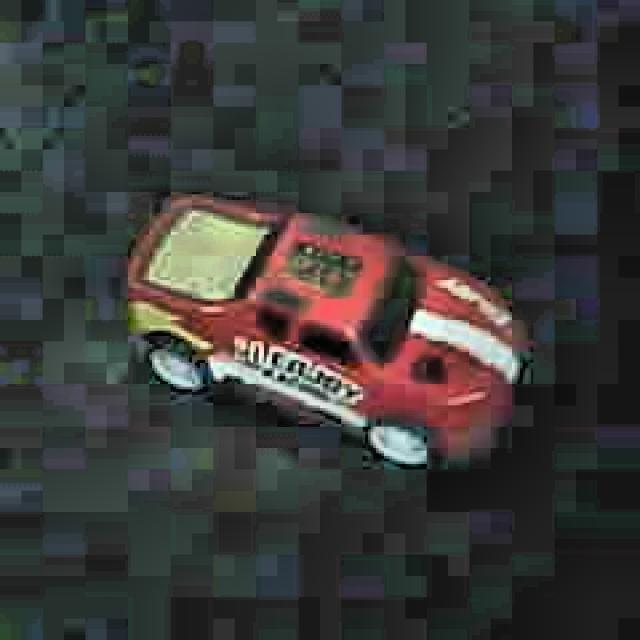car: (125, 187, 520, 474)
